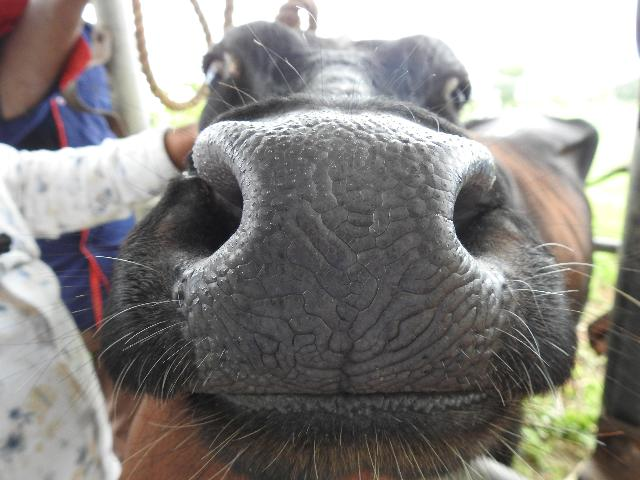Muzzle: (240, 131, 450, 383)
